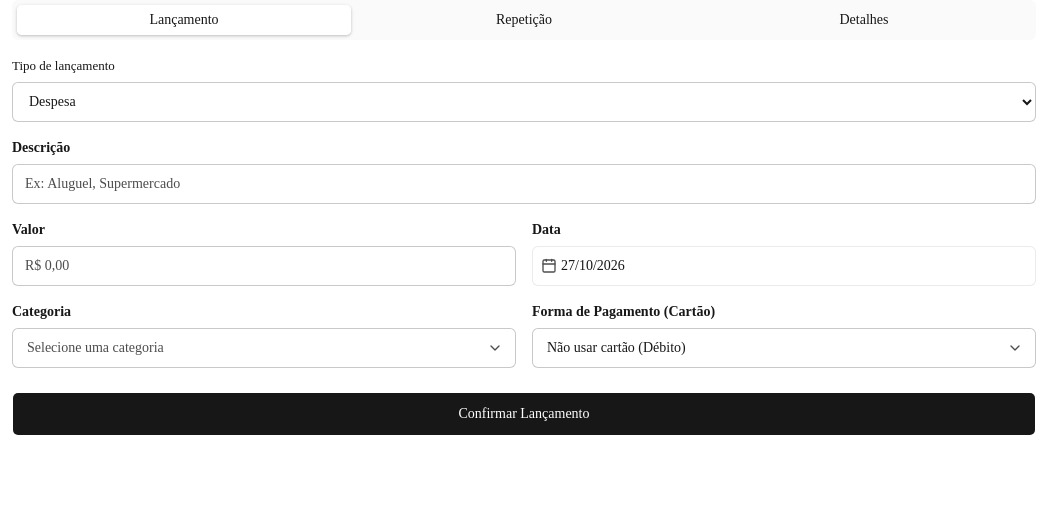
Test: abre a seção de um campo inválido e move o foco ao confirmar
Click the button "Detalhes": (864, 20) 696,4 -> 1032,36
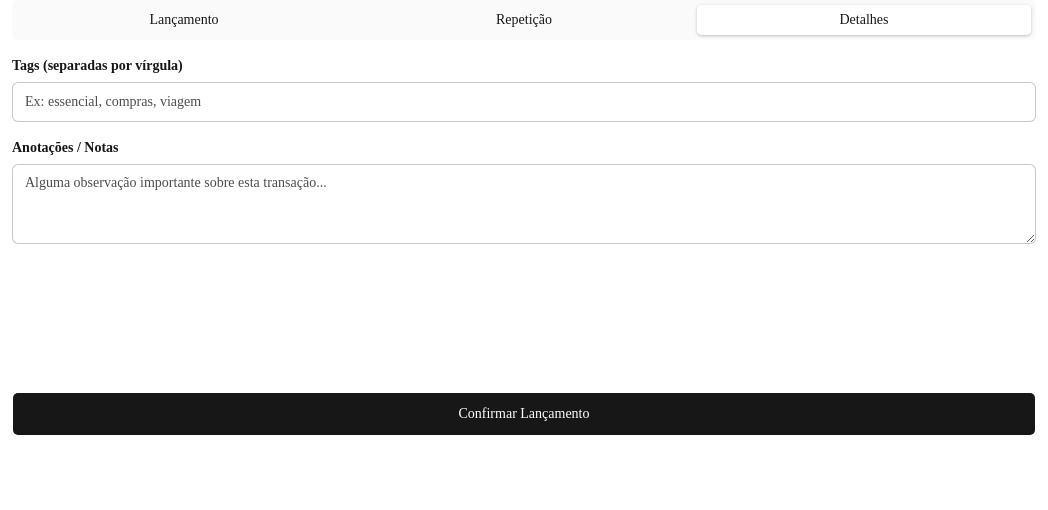
Click the button "Confirmar Lançamento": (524, 414) 12,392 -> 1036,436
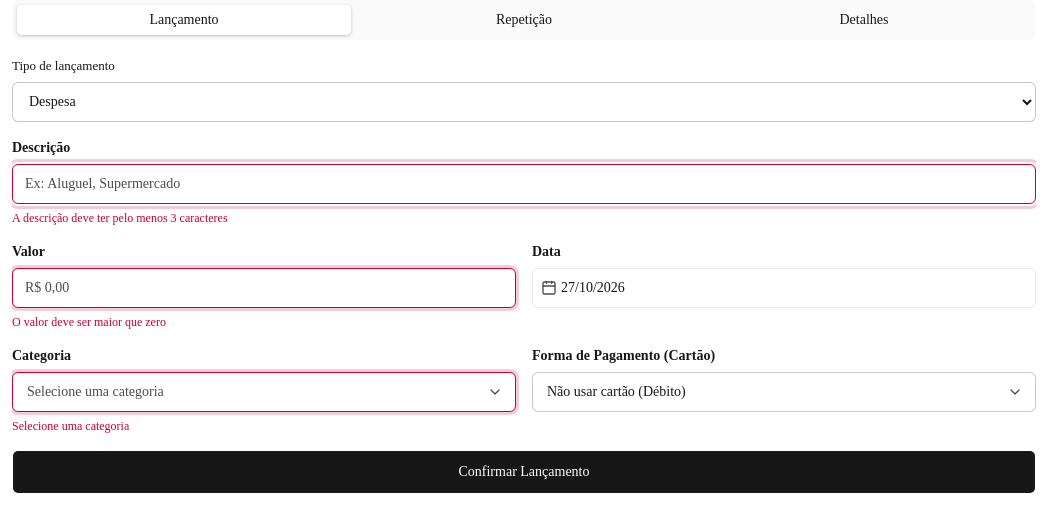
Expected: the field labelled "Descrição" is shown, 12,164 -> 1036,204
